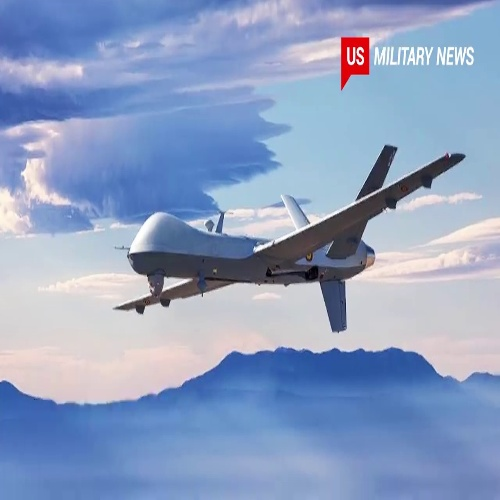uav: (119, 146, 465, 333)
